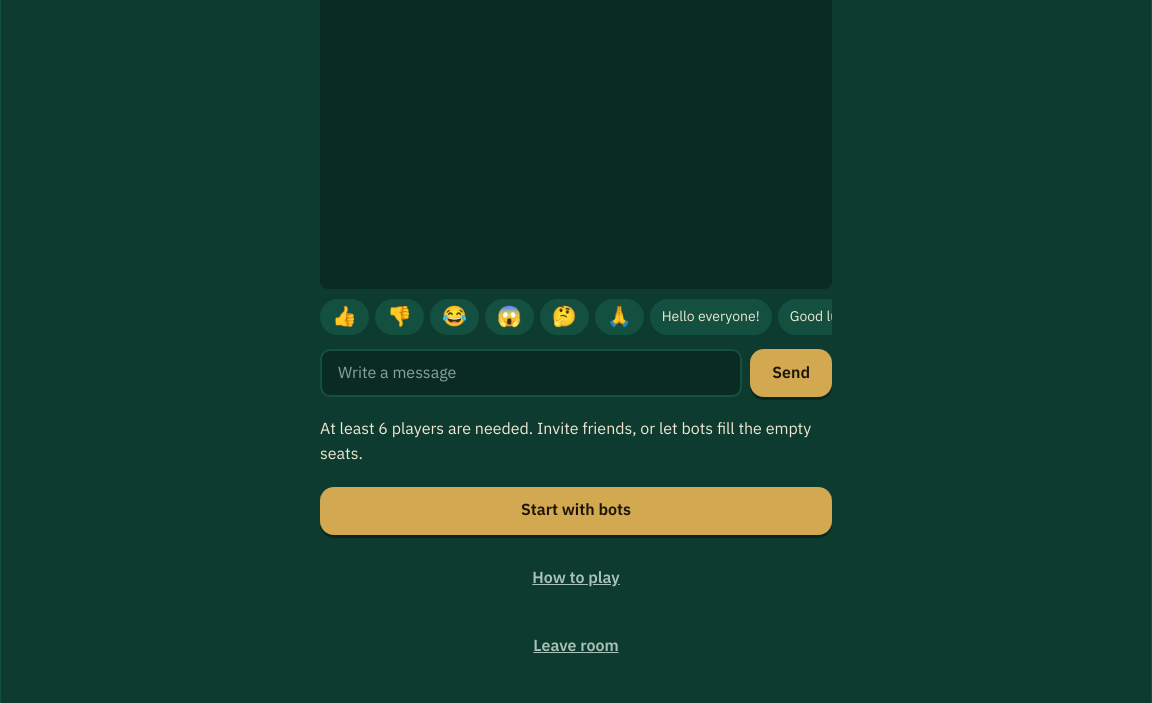
Test: lobby screen › leaves the room and returns home
(page scrolled)
What coordinates should you click on to do the following:
click the button "Leave room"
I would click on:
 (576, 646)
Its box is top-left (320, 622), bottom-right (832, 670).
(page scrolled)
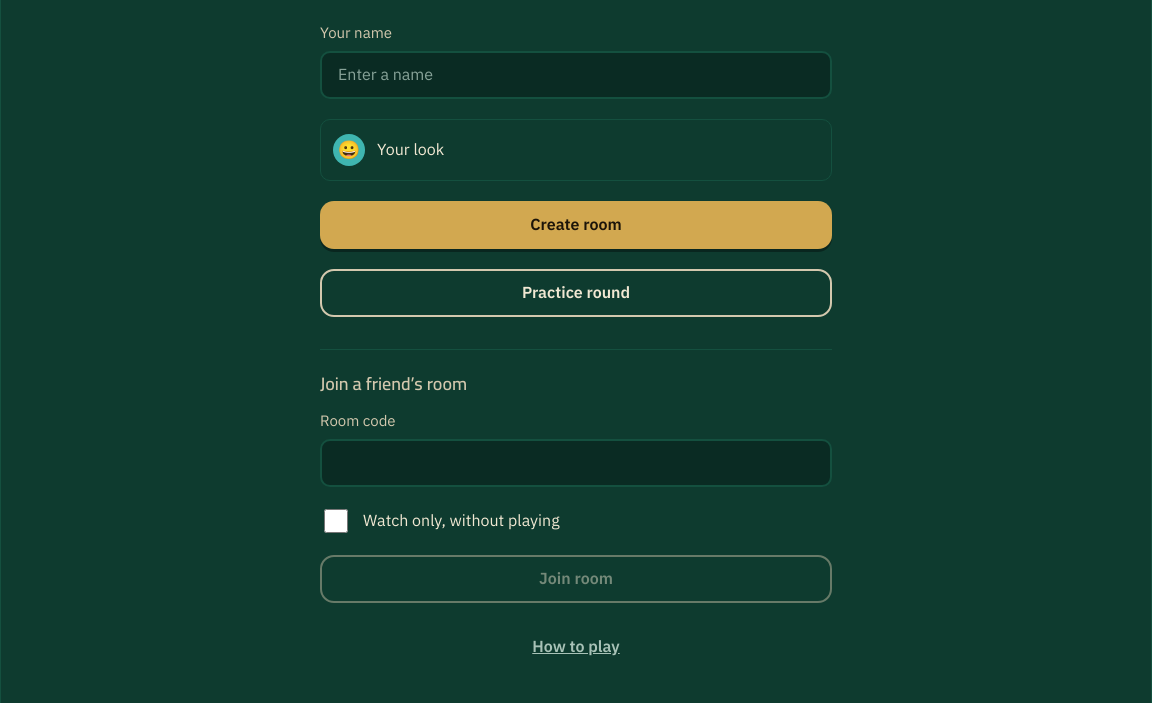
Result: the button "Create room" is shown at top-left (320, 201), bottom-right (832, 249)
